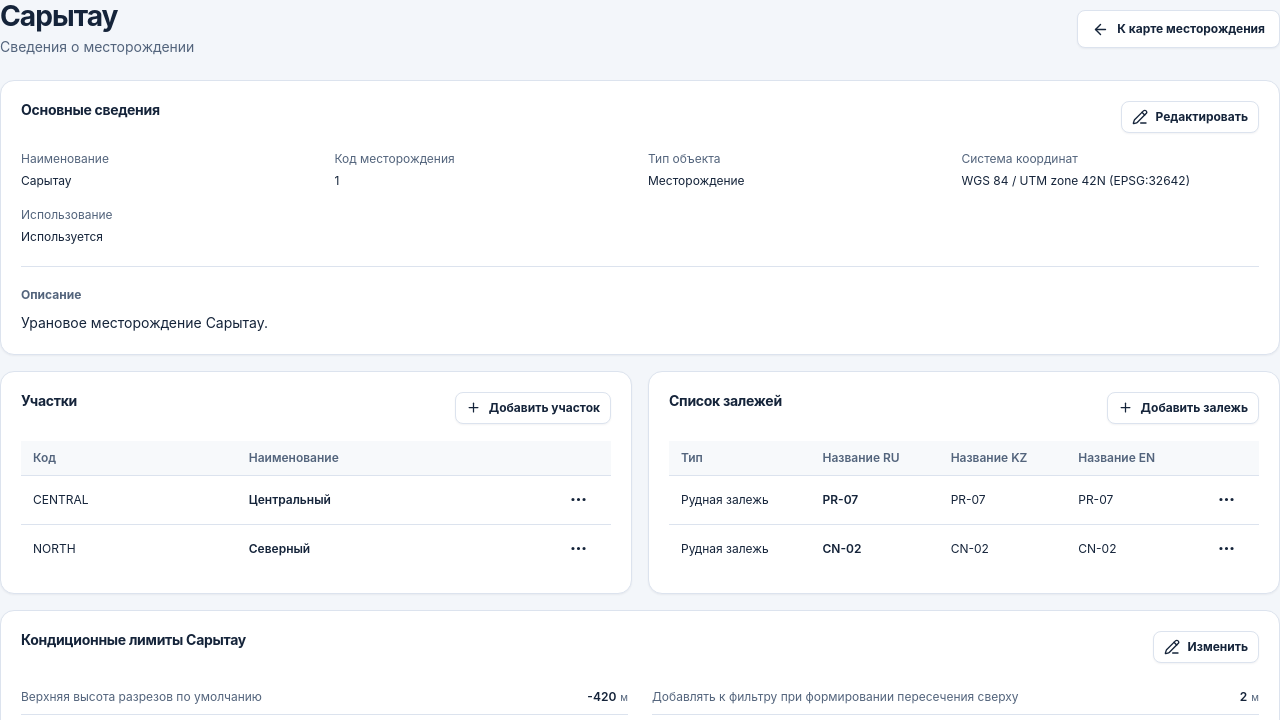
Test: Deposit condition limits › edits deposit data from the header and updates the unified view after saving
Click the button "Редактировать". click: (1190,117)
box: [1120,101,1259,133]
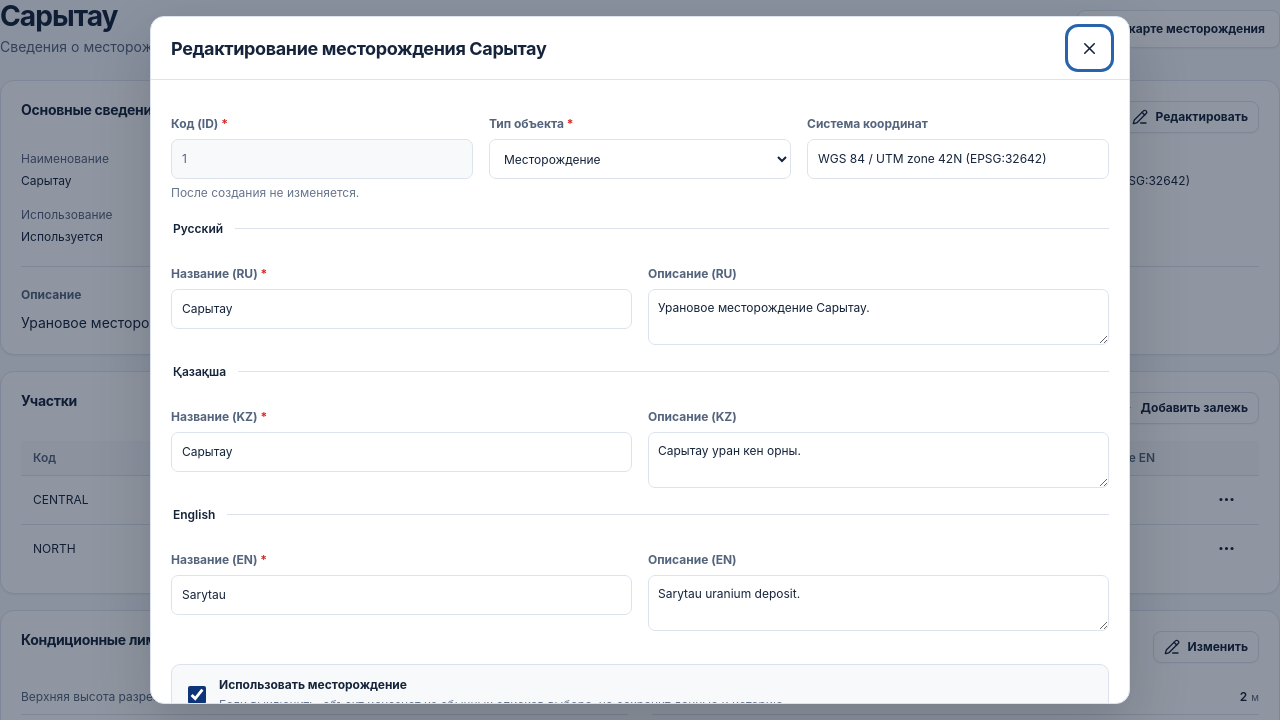
Replace the text in the text box labelled "Описание (EN)" with "Updated deposit description.". click: (878,603)
box: [648,575,1109,631]
(page scrolled)
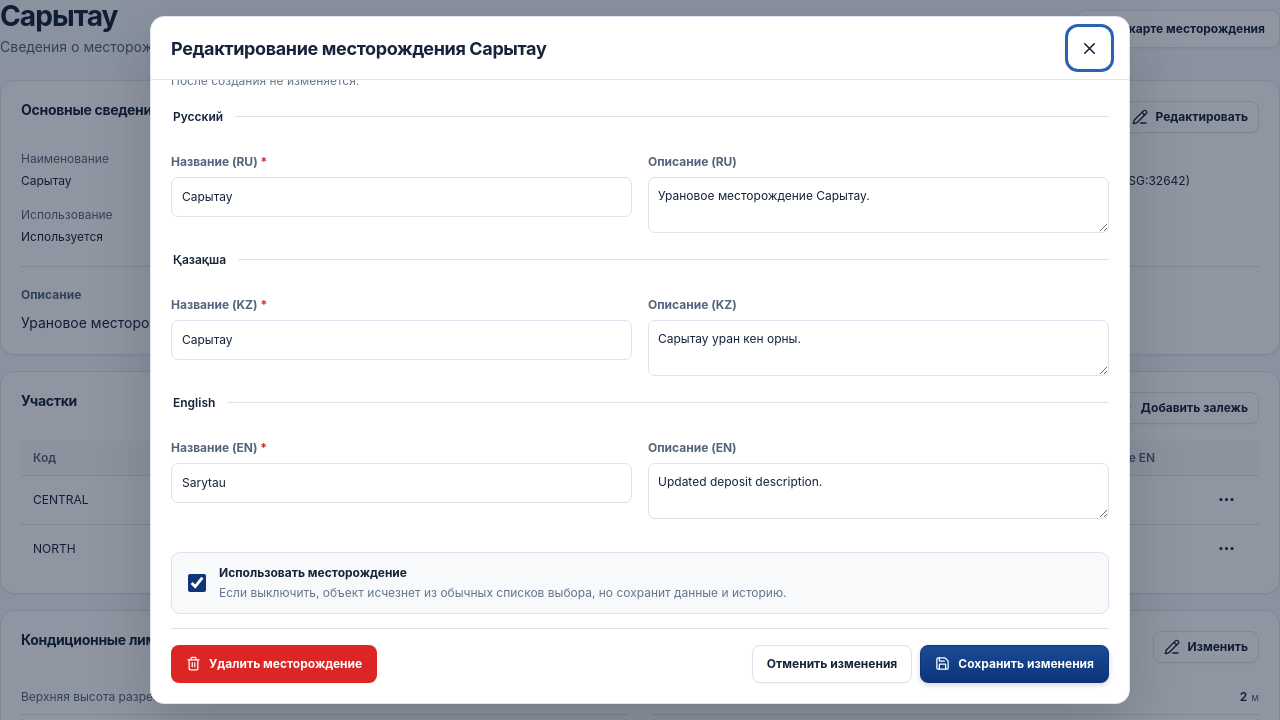
Click the button "Сохранить изменения". click: (1015,664)
box: [920,645,1109,683]
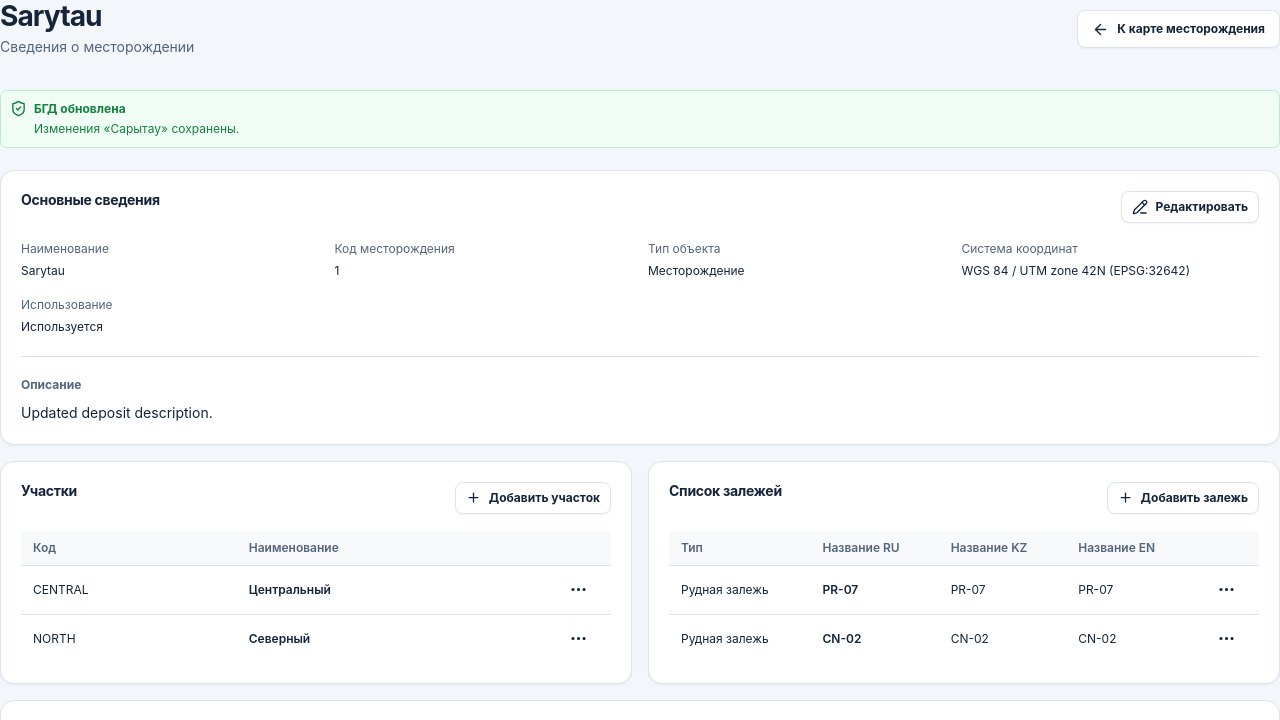
Now the dialog is gone
Now the text "Updated deposit description." is shown, box [21,404,213,421]
